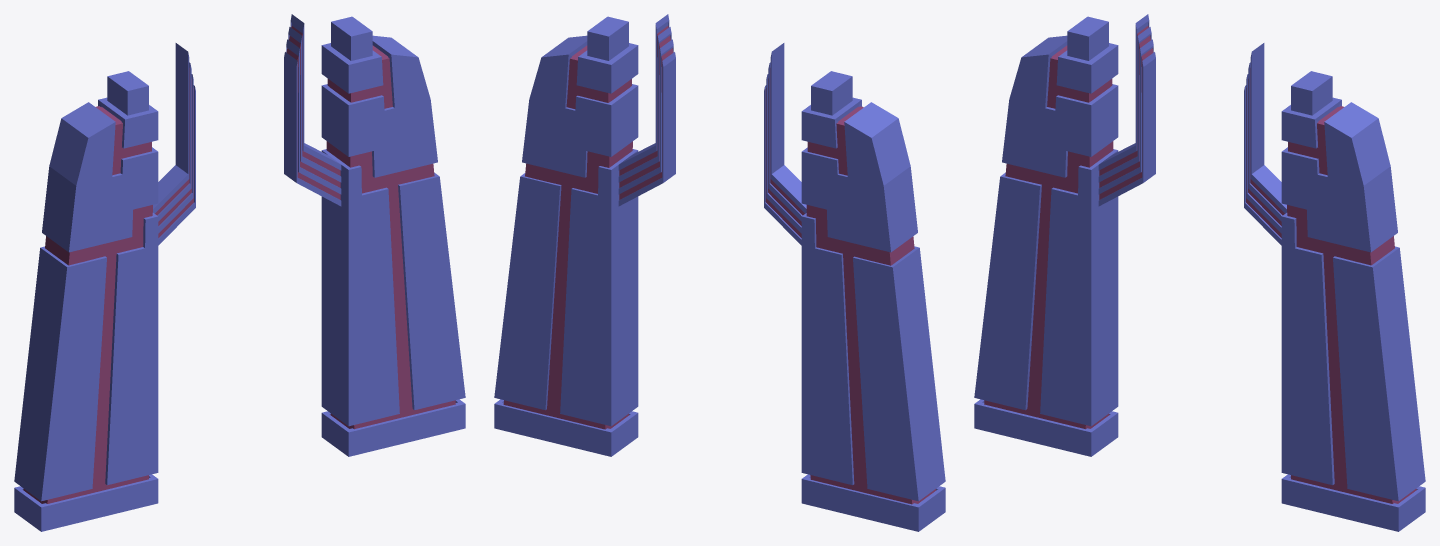
Rendered from SM_gateTowers.FBX.
The picture shows the model from 3 angles, left to right: view 1: azimuth 30°, elevation 25°; view 2: azimuth 150°, elevation 25°; view 3: azimuth 330°, elevation 25°; orthographic projection.
Parts seen in each view (by area): view 1: SM_gateTowers; view 2: SM_gateTowers; view 3: SM_gateTowers.
Boxes of the visible parts, bbox=[...] form: SM_gateTowers: bbox=[14, 14, 465, 531]; SM_gateTowers: bbox=[494, 14, 945, 531]; SM_gateTowers: bbox=[974, 14, 1425, 531].
Bounding box in the file's own units: 725 × 714 × 80.
